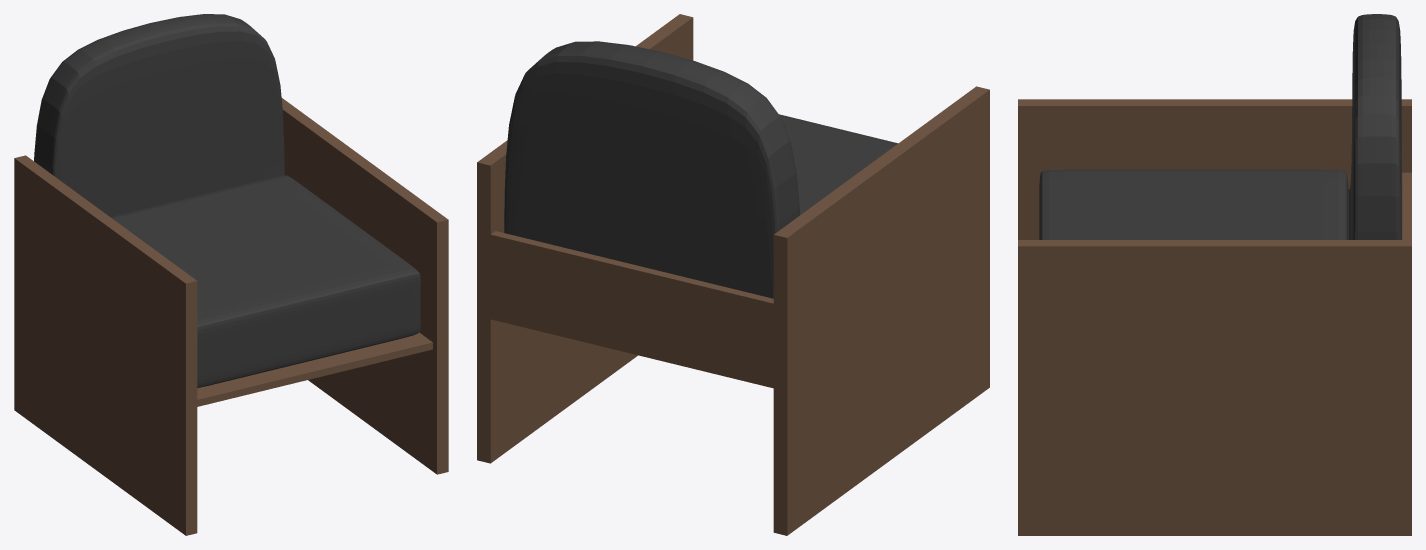
File: armchair_dean.fbx
3 views of the same model, side by side, from view 1: azimuth 30°, elevation 25°; view 2: azimuth 150°, elevation 25°; view 3: azimuth 270°, elevation 25° (orthographic). The views are drawn at different scales.
Visible parts, largest first — view 1: Cube.279; view 2: Cube.279; view 3: Cube.279.
Part boxes in pixels (left/top/right/bottom): Cube.279: left=14, top=14, right=448, bottom=535; Cube.279: left=477, top=14, right=989, bottom=535; Cube.279: left=1018, top=14, right=1411, bottom=535.
Size of the model in its own units: 61.95 by 82.1 by 70.15.
